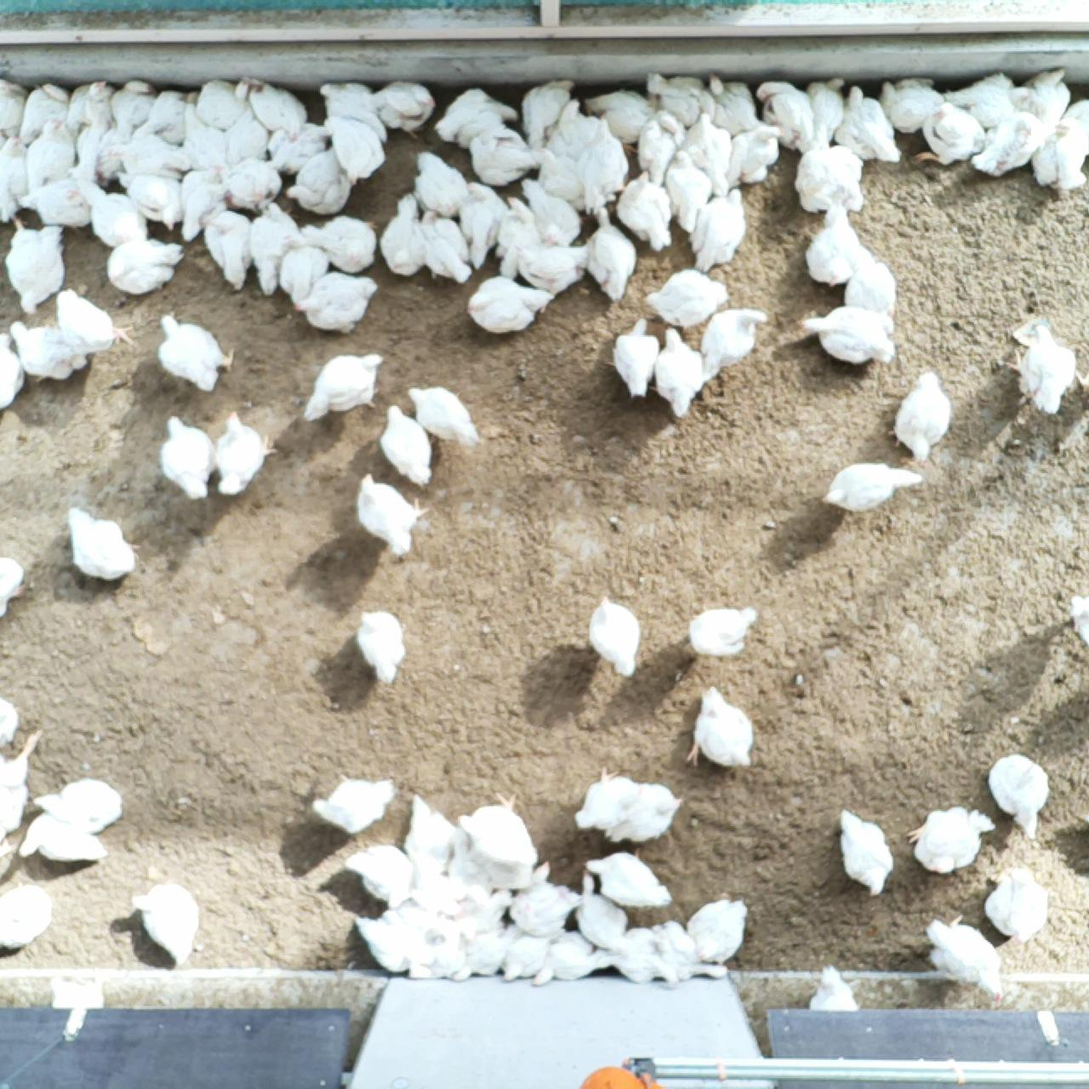chicken: (921, 912, 1005, 1002), (1004, 320, 1079, 413), (1, 213, 68, 316), (154, 311, 237, 394), (453, 792, 540, 868), (906, 803, 996, 875), (684, 684, 756, 772), (299, 352, 385, 425), (508, 239, 591, 314), (798, 303, 898, 365), (581, 842, 674, 907), (353, 474, 425, 557), (64, 505, 141, 582), (966, 107, 1050, 176), (935, 71, 1030, 132), (400, 906, 472, 986), (290, 268, 378, 333), (375, 398, 436, 491), (822, 460, 927, 514), (244, 201, 303, 297), (648, 919, 736, 983), (132, 881, 198, 966), (468, 271, 554, 336), (891, 368, 949, 464), (509, 860, 582, 936), (215, 410, 277, 499), (986, 754, 1050, 840), (833, 87, 904, 164), (983, 864, 1051, 944), (579, 206, 636, 301), (836, 807, 896, 897), (696, 307, 768, 382), (158, 409, 217, 499), (686, 185, 747, 272), (463, 121, 544, 186), (433, 87, 519, 147), (907, 100, 985, 166), (452, 177, 505, 274), (7, 322, 91, 383), (76, 177, 150, 246), (53, 289, 134, 352), (527, 929, 613, 988), (614, 170, 675, 253), (642, 268, 734, 323), (797, 143, 868, 214), (802, 201, 862, 285), (14, 813, 109, 866), (32, 777, 127, 830), (310, 776, 395, 835), (752, 77, 815, 156), (588, 592, 644, 680), (571, 872, 631, 954), (583, 88, 655, 156), (324, 114, 391, 187), (102, 233, 182, 294), (605, 781, 683, 843), (581, 114, 629, 214), (340, 844, 415, 907), (67, 100, 120, 189), (399, 794, 455, 878), (605, 924, 682, 985), (512, 76, 573, 153), (0, 728, 43, 837), (299, 215, 378, 274), (680, 112, 734, 198), (653, 326, 704, 417), (410, 147, 471, 223), (407, 384, 480, 447), (200, 204, 254, 289), (447, 822, 492, 924), (575, 765, 643, 832), (381, 192, 430, 283), (318, 78, 389, 140), (418, 204, 473, 284), (286, 147, 351, 214), (685, 893, 749, 961), (684, 602, 758, 660), (117, 169, 186, 231), (355, 607, 411, 683), (261, 120, 336, 176), (876, 75, 947, 134), (451, 919, 517, 982), (349, 916, 418, 976), (1030, 122, 1085, 197), (494, 194, 543, 278), (610, 314, 658, 399), (844, 250, 899, 323), (492, 923, 560, 982), (727, 123, 783, 194), (522, 177, 578, 247), (223, 153, 287, 214), (15, 177, 93, 227), (703, 72, 762, 138), (664, 147, 709, 232), (800, 72, 845, 157), (633, 108, 682, 186), (1015, 66, 1074, 130), (24, 118, 73, 194), (408, 858, 469, 919), (468, 845, 547, 892), (646, 75, 717, 126), (221, 100, 269, 174), (245, 76, 306, 134), (374, 78, 435, 136), (109, 131, 184, 178), (15, 78, 69, 143), (0, 883, 51, 949), (547, 97, 597, 161), (177, 100, 224, 168), (452, 890, 512, 943), (279, 240, 327, 306), (534, 153, 587, 212), (178, 181, 229, 241), (65, 78, 116, 137), (196, 77, 252, 130), (108, 78, 155, 138), (0, 136, 31, 222), (808, 964, 861, 1012), (175, 161, 225, 211), (151, 83, 191, 145), (0, 326, 27, 409), (0, 76, 31, 142), (1059, 94, 1089, 154), (0, 556, 24, 620), (1068, 590, 1089, 643), (0, 697, 16, 749)
